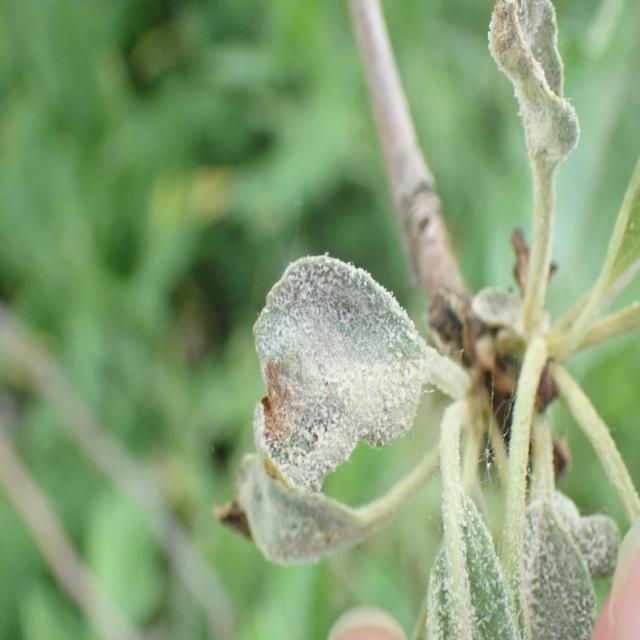Powdery_mildew: (229, 218, 466, 462), (479, 0, 581, 326), (198, 450, 446, 572), (402, 397, 510, 635), (513, 403, 614, 640), (527, 406, 629, 581), (588, 137, 640, 362)
